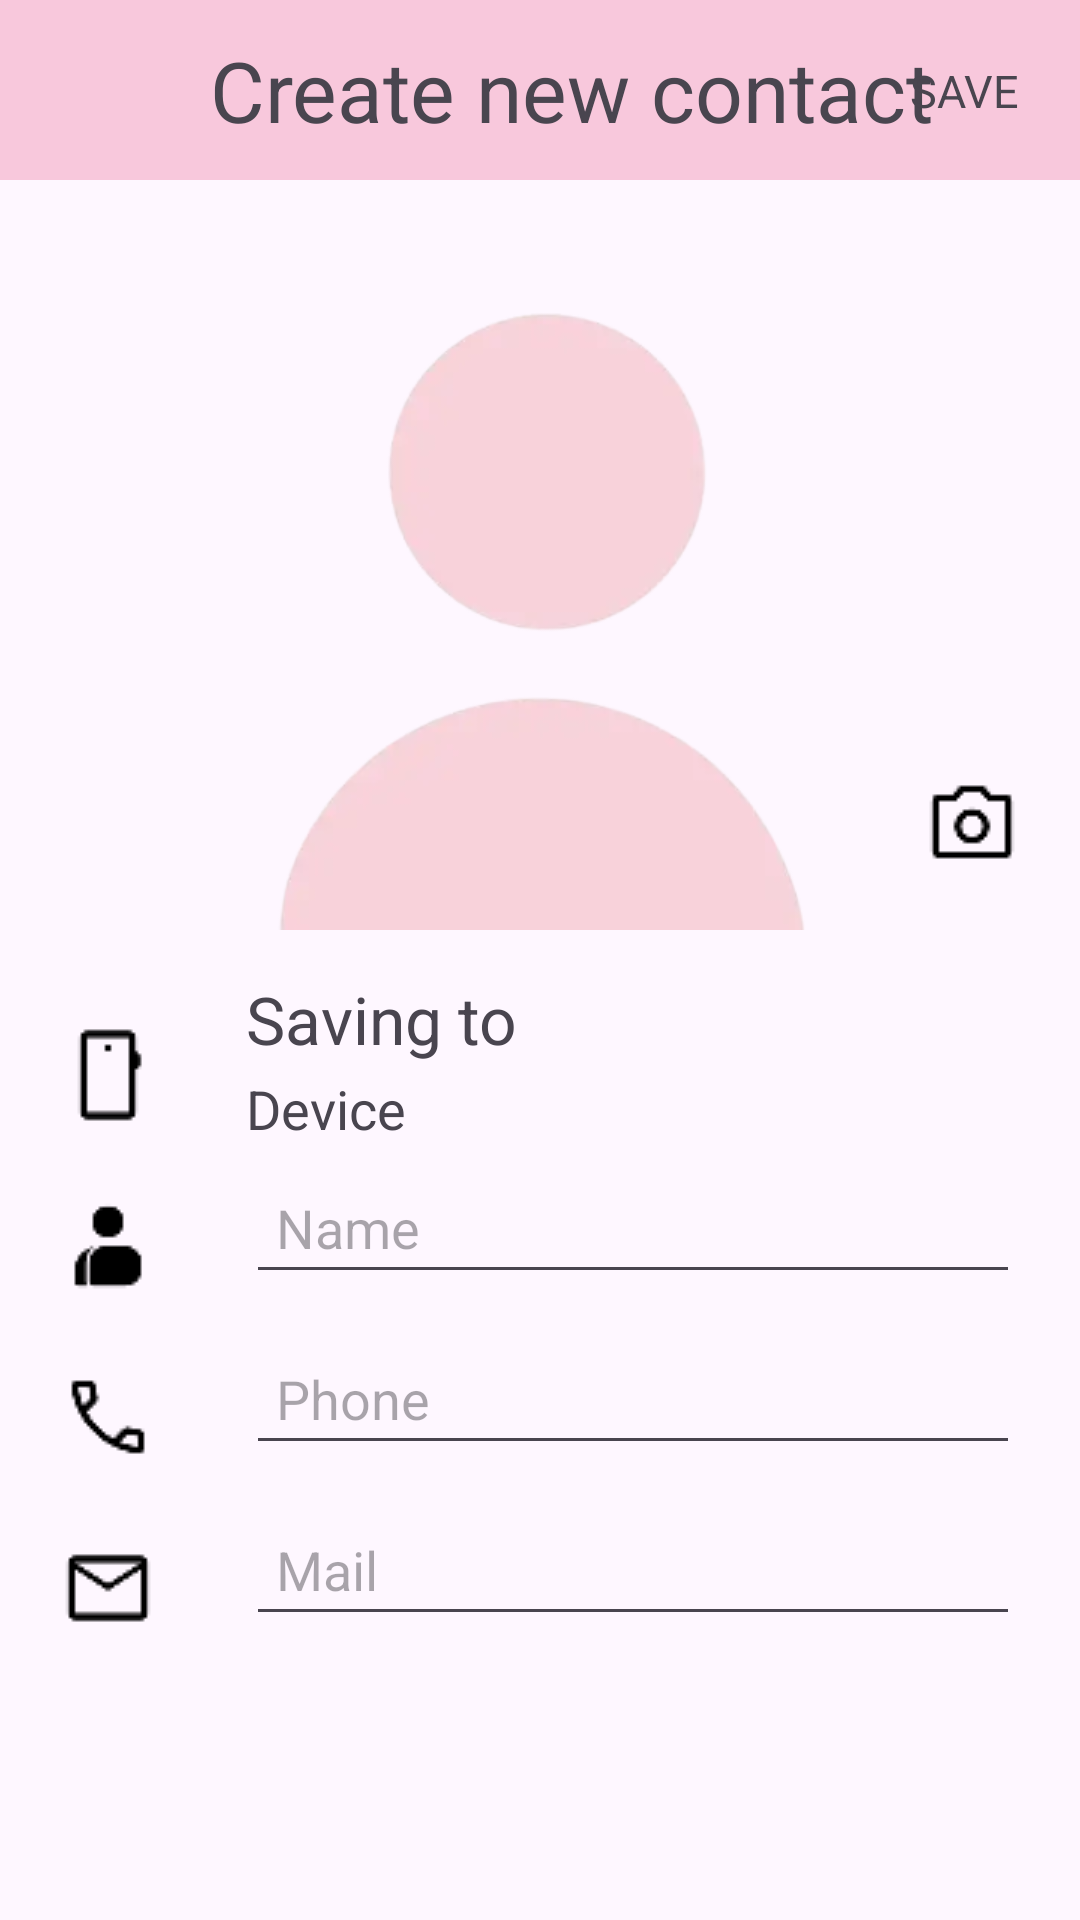

Named icons in this screenshot (1080w x 1920h) and their centers, [x,y]:
call: [108,1417]
camera: [972,822]
phone: [110,1075]
user: [108,1246]
